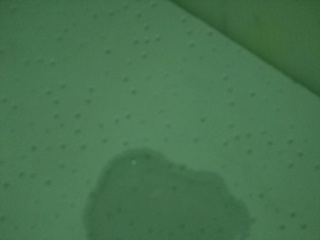Water_detected: (107, 158, 206, 240)
